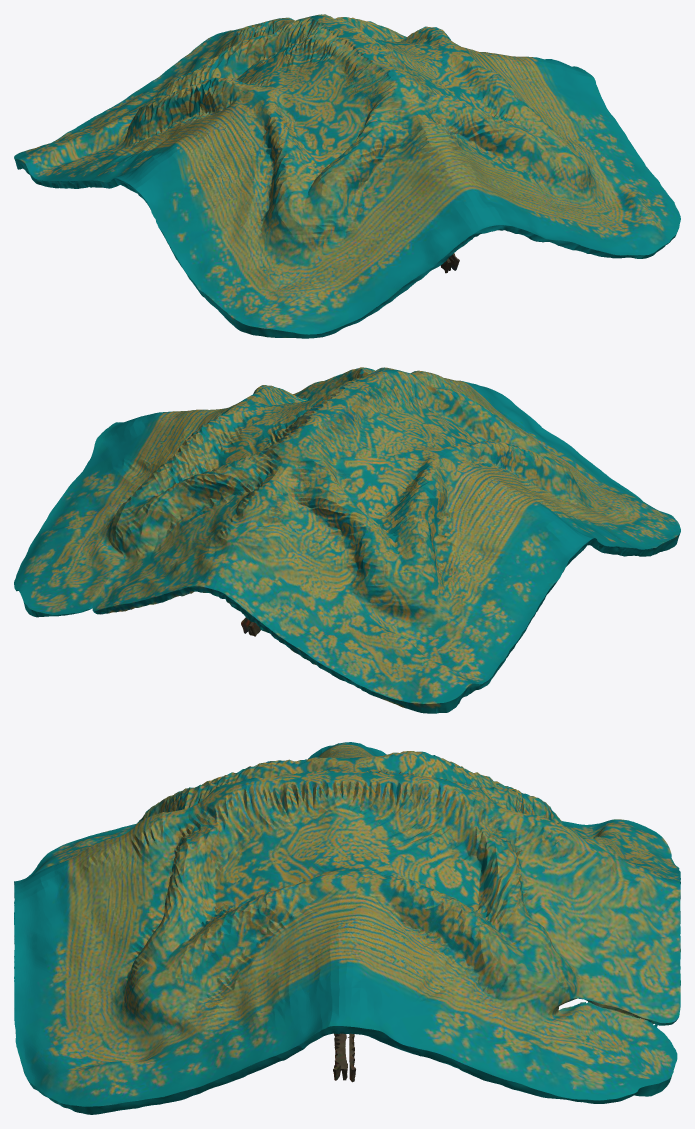
File: suratZariFabric.glb
The picture shows the model from 3 angles, top to bottom: view 1: azimuth 30°, elevation 25°; view 2: azimuth 150°, elevation 25°; view 3: azimuth 270°, elevation 25°; orthographic projection. The views are drawn at different scales.
Parts seen in each view (by area): view 1: tripo_node_320644ae-1925-4fbd-9a28-174b4b0af8c4; view 2: tripo_node_320644ae-1925-4fbd-9a28-174b4b0af8c4; view 3: tripo_node_320644ae-1925-4fbd-9a28-174b4b0af8c4.
Boxes of the visible parts, box(x1,y1,x2,y2) form: tripo_node_320644ae-1925-4fbd-9a28-174b4b0af8c4: box(14, 14, 680, 338); tripo_node_320644ae-1925-4fbd-9a28-174b4b0af8c4: box(14, 367, 680, 713); tripo_node_320644ae-1925-4fbd-9a28-174b4b0af8c4: box(14, 742, 680, 1114).
Bounding box in the file's own units: 0.9989 × 0.3437 × 1.
Materials: 1 (1 with a texture image).
